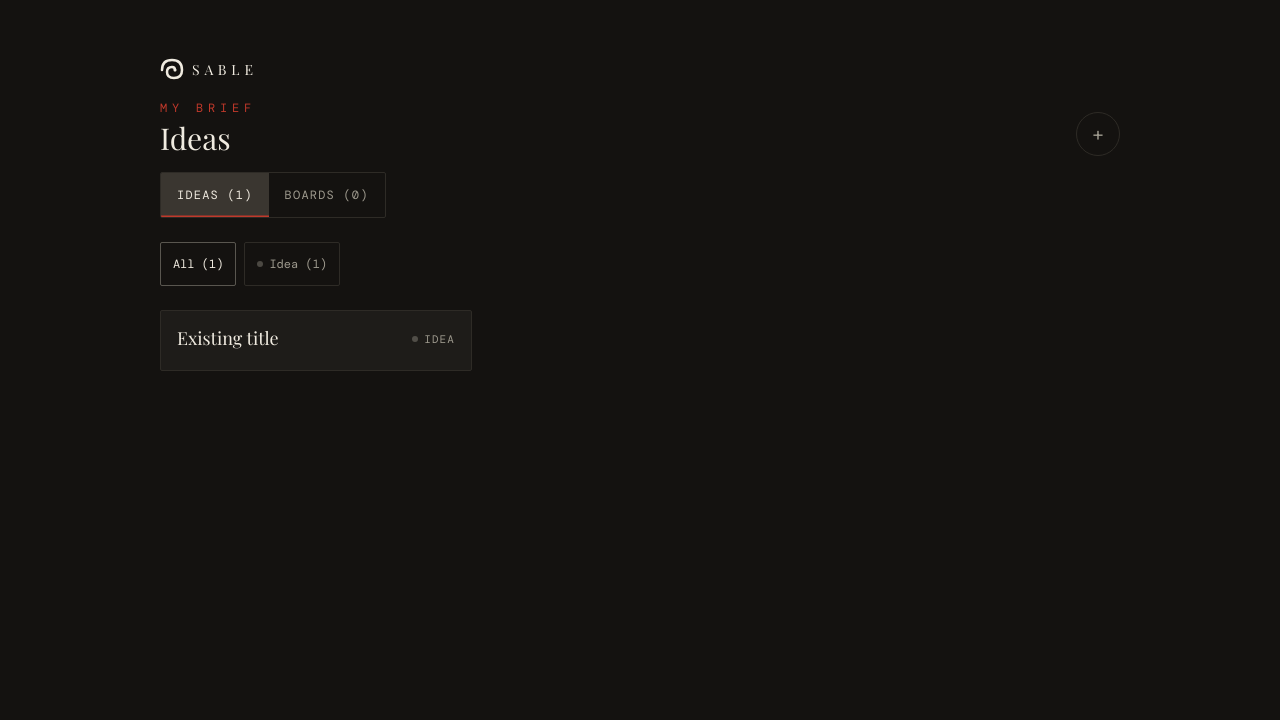
it: AI image analysis only touches the fields it actually changed (#63 review) › does not revert a concurrent title change when analysis left the title alone
Click the heading "Existing title" at (228, 338), box 177,327 -> 279,350
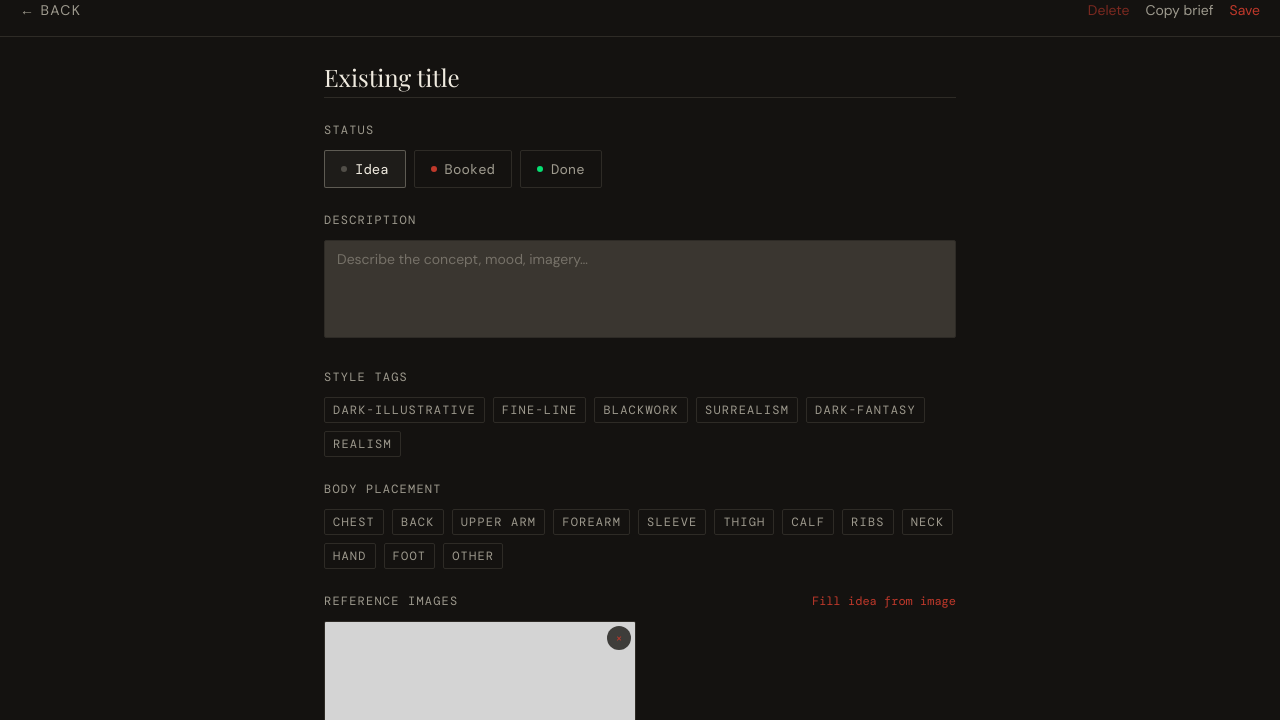
Click the button "Fill idea from image" at (884, 601), box 812,593 -> 956,609
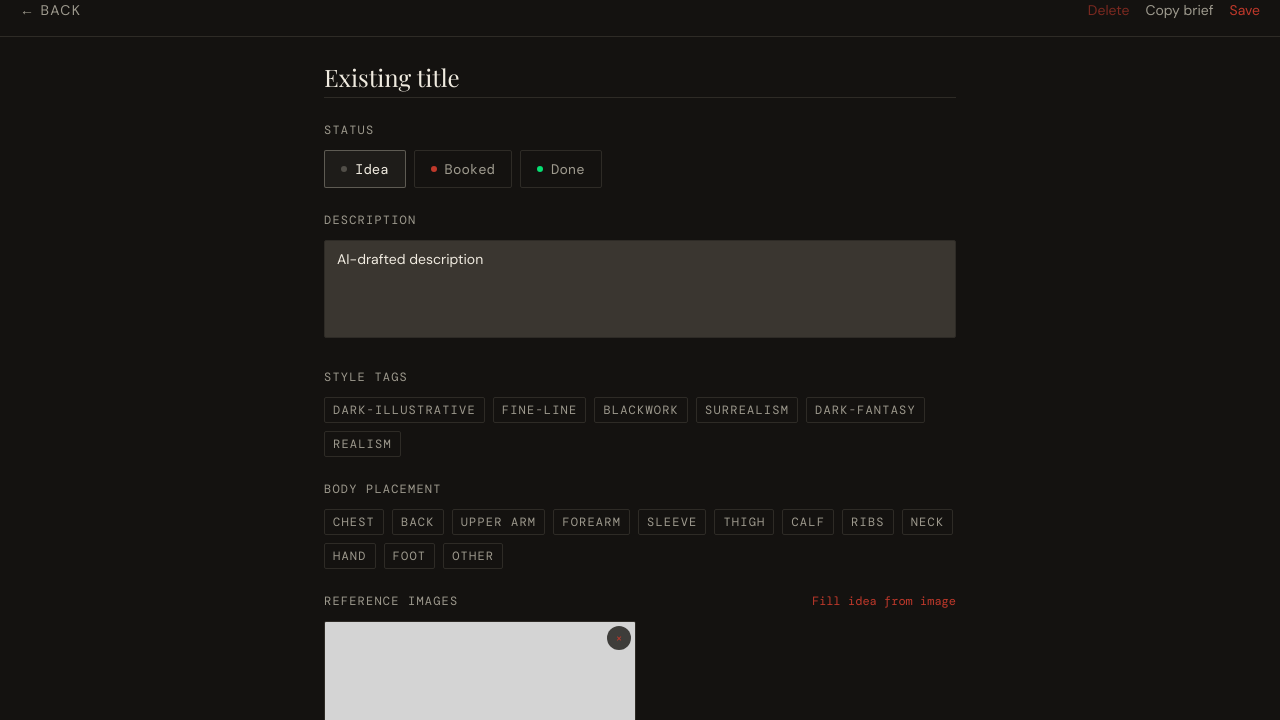
Expected: the text box with placeholder "Describe the concept, mood, imagery…" holds "AI-drafted description", 324,240 -> 956,338
Click the button "Save" at (1245, 10), box 1230,0 -> 1260,20
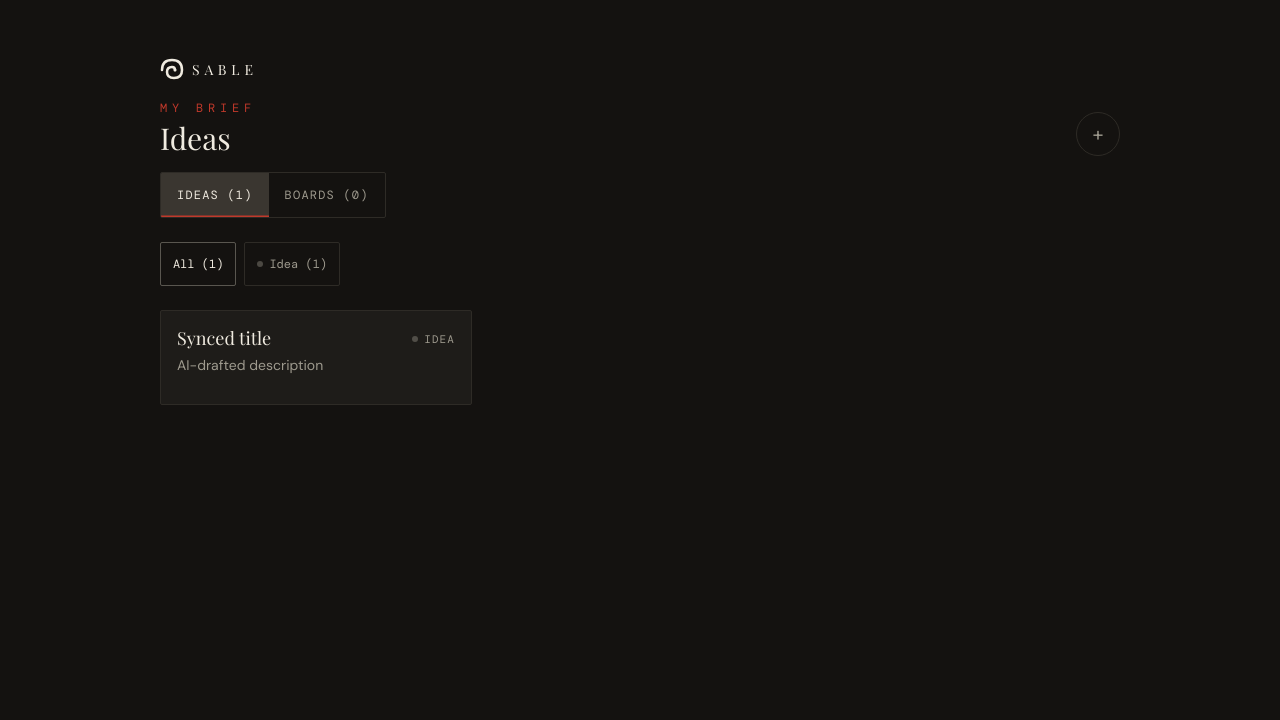
Expected: the heading named "Existing title" reads "Synced title", 177,326 -> 271,350
Expected: the text "AI-drafted description" is shown, 177,356 -> 323,374
